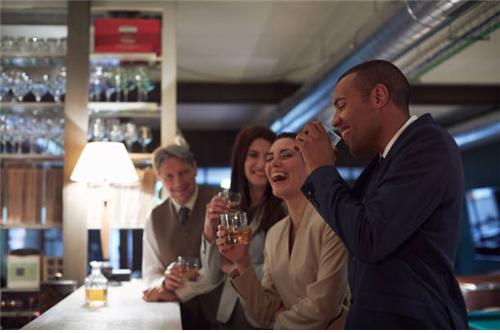alcohol: (82, 261, 110, 310), (221, 211, 248, 248), (177, 255, 200, 284), (218, 191, 243, 213)
